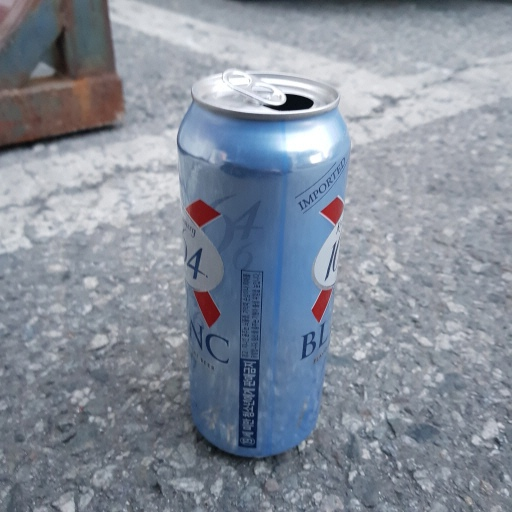Metal_0: (171, 70, 353, 459)
